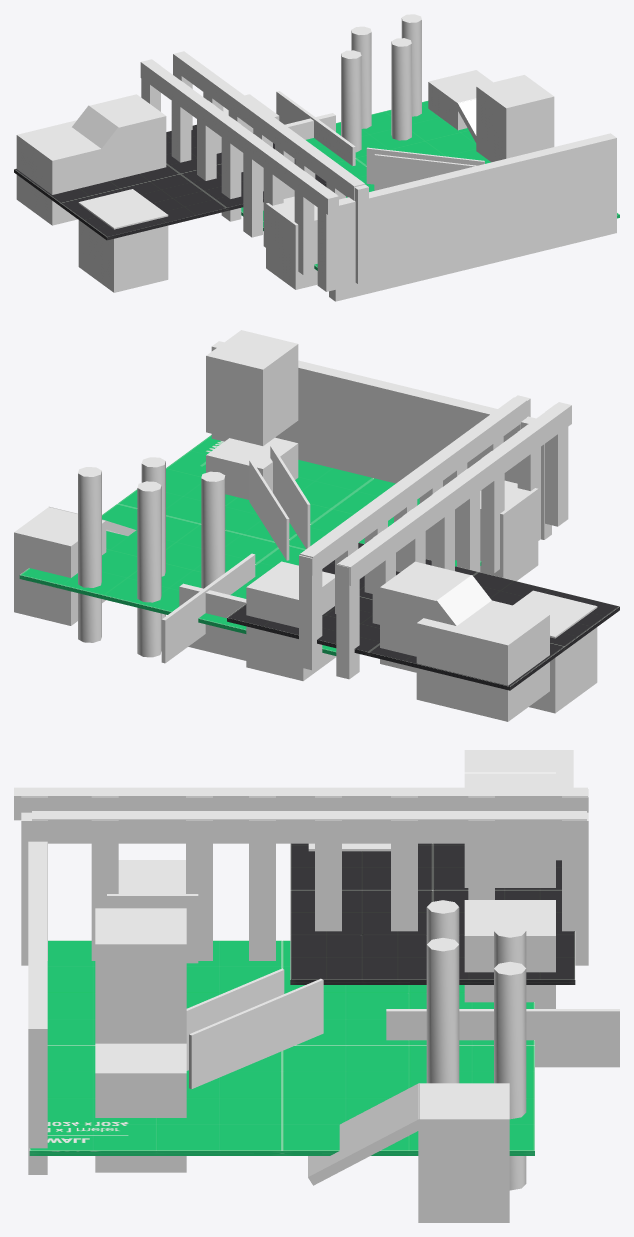
File: worldelem.gltf
3 views of the same model, one above another, from view 1: azimuth 30°, elevation 25°; view 2: azimuth 150°, elevation 25°; view 3: azimuth 270°, elevation 25° (orthographic). The views are drawn at different scales.
Visible parts, largest first — view 1: CSGBox3D292, Plane2, CSGBox3D282, CSGBox3D302, CSGBox3D262, CSGBox3D72, CSGBox3D122, Plane23, CSGBox3D62, CSGBox3D192, CSGBox3D272, CSGCylinder3D42 (+18 smaller); view 2: Plane23, CSGBox3D292, CSGBox3D262, CSGBox3D302, CSGBox3D72, Plane2, CSGBox3D122, CSGBox3D182, CSGBox3D62, CSGBox3D282, CSGCylinder3D2, CSGCylinder3D23 (+20 smaller); view 3: Plane23, Plane2, CSGBox3D122, CSGBox3D182, CSGBox3D302, CSGBox3D72, CSGBox3D202, CSGBox3D252, CSGBox3D212, CSGBox3D292, CSGBox3D45, CSGCylinder3D23 (+17 smaller).
Boxes of the visible parts, x1,y1,x2,y2 form: CSGBox3D292: (329,133,616,301); Plane2: (14,124,326,240); CSGBox3D282: (78,189,168,292); CSGBox3D302: (476,75,554,162); CSGBox3D262: (16,120,100,225); CSGBox3D72: (140,59,338,214); CSGBox3D122: (173,51,364,200); Plane23: (241,100,619,270); CSGBox3D62: (89,94,166,178); CSGBox3D192: (266,196,317,289); CSGBox3D272: (72,105,118,183); CSGCylinder3D42: (391,38,411,140); Plane23: (19,435,481,655); CSGBox3D292: (211,341,551,539); CSGBox3D262: (416,600,549,721); CSGBox3D302: (206,330,298,445); CSGBox3D72: (337,402,571,585); Plane2: (227,542,619,690); CSGBox3D122: (300,397,526,575); CSGBox3D182: (14,507,106,625); CSGBox3D62: (380,561,470,672); CSGBox3D282: (513,590,597,713); CSGCylinder3D2: (137,481,161,657); CSGCylinder3D23: (78,467,101,642); Plane23: (29,940,534,1155); Plane2: (290,843,575,984); CSGBox3D122: (32,811,586,843); CSGBox3D182: (418,1083,509,1222); CSGBox3D302: (95,908,186,1043); CSGBox3D72: (14,787,587,820); CSGBox3D202: (95,1043,186,1172); CSGBox3D252: (386,1009,619,1067); CSGBox3D212: (189,978,323,1089); CSGBox3D292: (28,841,47,1174); CSGBox3D45: (464,900,555,987); CSGCylinder3D23: (494,961,526,1190).
Bounding box in the file's own units: 142 × 48.96 × 110.
42 materials, 2 textured.
